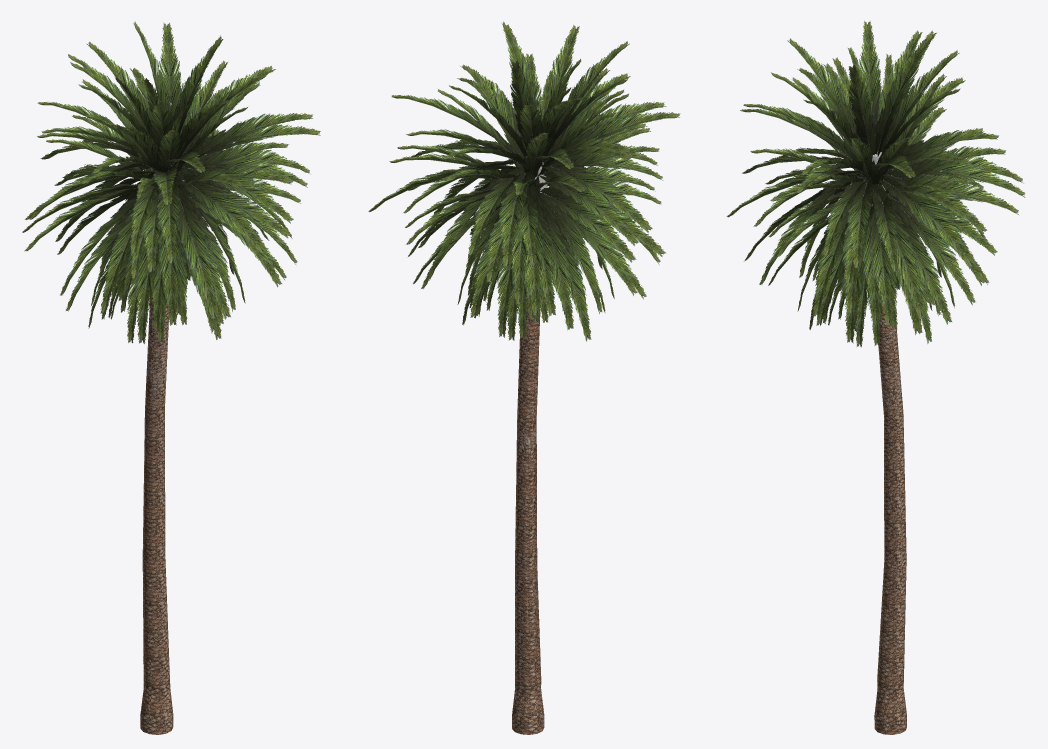
The model's file is indiandate.dae.
3 views of the same model, side by side, from view 1: azimuth 30°, elevation 25°; view 2: azimuth 150°, elevation 25°; view 3: azimuth 270°, elevation 25° (orthographic).
Parts seen in each view (by area): view 1: group_2 (×25), group_1, group_0 (×10); view 2: group_2 (×21), group_1, group_0 (×13); view 3: group_2 (×20), group_1, group_0 (×10).
Boxes of the visible parts, x1,y1,x2,y2 form: group_2 (×25): (28,21,320,343); group_1: (140,279,173,734); group_0 (×10): (24,60,293,310); group_2 (×21): (392,25,680,336); group_1: (512,301,544,734); group_0 (×13): (438,66,665,339); group_2 (×20): (759,21,1025,324); group_1: (874,282,906,734); group_0 (×10): (868,146,1018,326).
Bounding box in the file's own units: 374 × 359 × 869.
